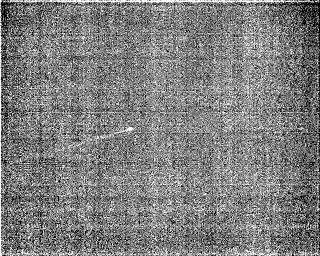AIRPLANE: (58, 124, 136, 151)
